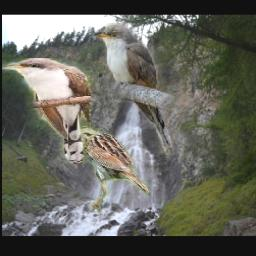Cuckoo: (93, 23, 175, 156), (2, 59, 91, 165)
Sparrow: (62, 126, 151, 212)
